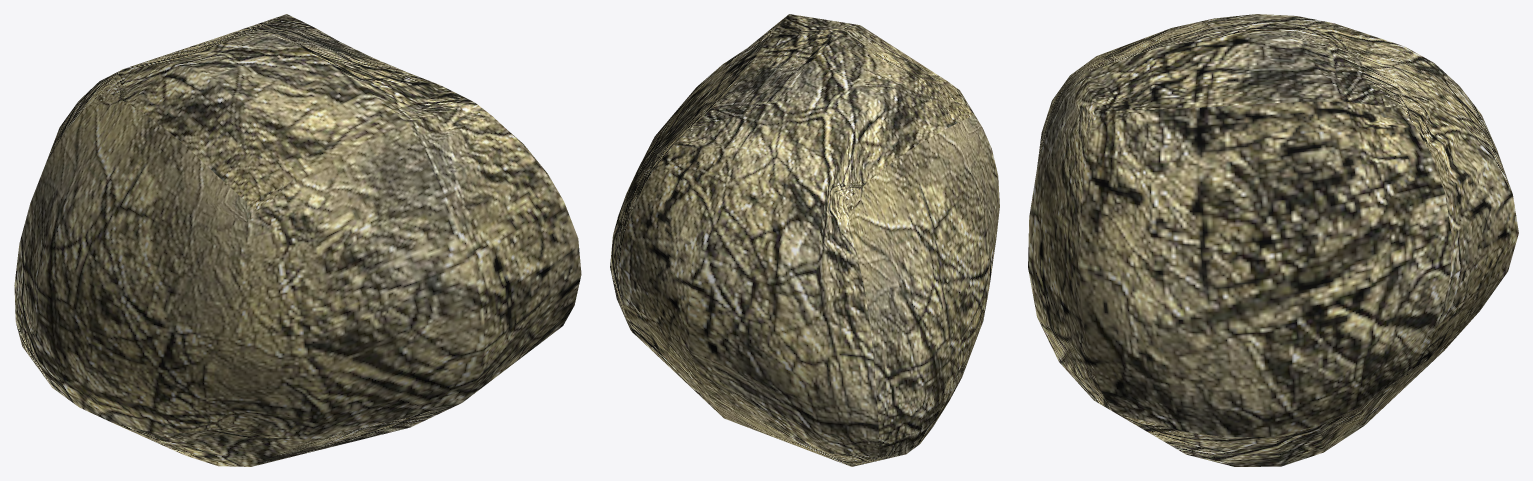
Rendered from Campfire_Rock_Model.fbx.
The picture shows the model from 3 angles, left to right: view 1: azimuth 30°, elevation 25°; view 2: azimuth 150°, elevation 25°; view 3: azimuth 270°, elevation 25°; orthographic projection. The views are drawn at different scales.
Parts seen in each view (by area): view 1: Rock_High; view 2: Rock_High; view 3: Rock_High.
Boxes of the visible parts, left/top/right/bottom form: Rock_High: left=14, top=14, right=581, bottom=466; Rock_High: left=610, top=14, right=999, bottom=466; Rock_High: left=1028, top=14, right=1518, bottom=466.
Size of the model in its own units: 7.48 by 6.85 by 7.57.
Materials: 1 (1 with a texture image).
